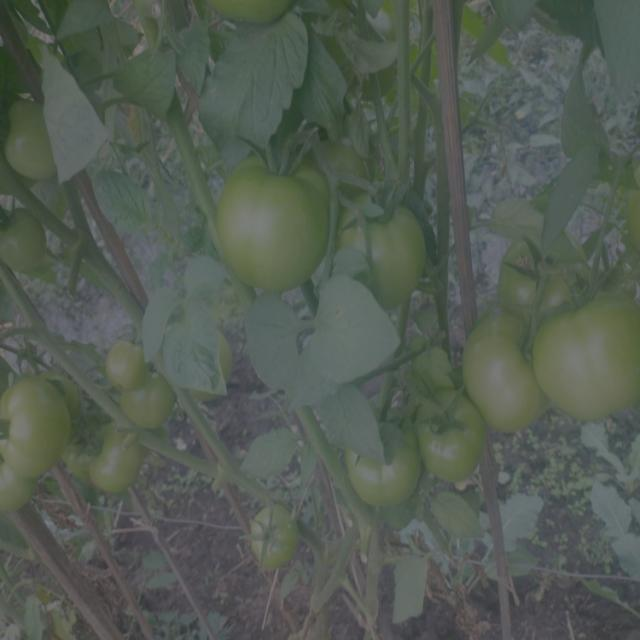tomato: (210, 134, 334, 300), (536, 303, 640, 411), (341, 184, 432, 306), (463, 314, 555, 428), (412, 390, 497, 482), (335, 419, 421, 509), (1, 379, 63, 470), (1, 94, 62, 184), (500, 232, 570, 309), (87, 427, 146, 497), (1, 204, 57, 276), (202, 1, 302, 32), (247, 509, 295, 572), (115, 379, 158, 432), (110, 332, 151, 386), (212, 329, 236, 397), (4, 474, 36, 521)
